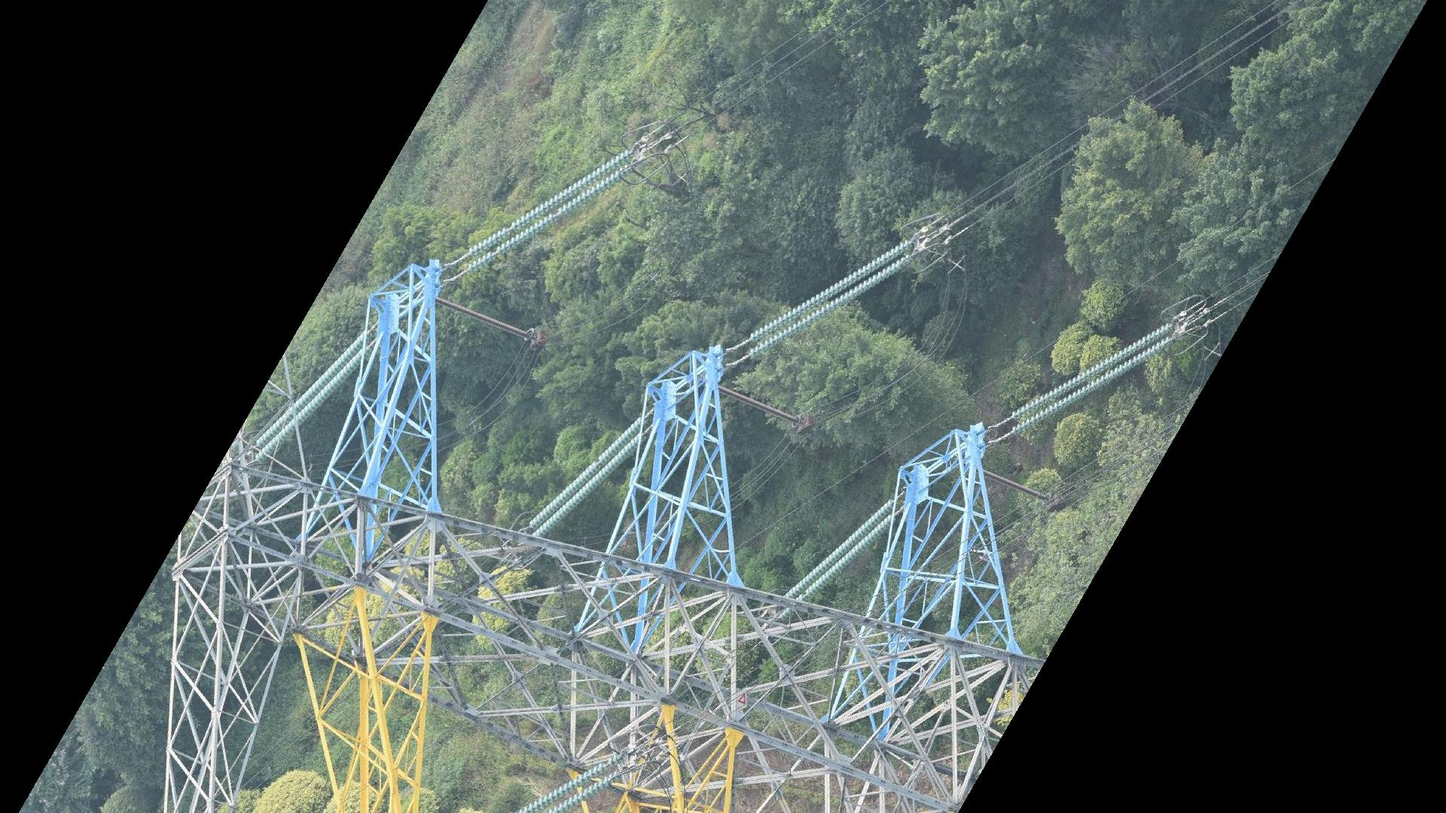insulator: (462, 146, 636, 276), (743, 236, 915, 361), (1007, 317, 1178, 437), (252, 326, 373, 465), (528, 413, 654, 540), (786, 498, 900, 603), (511, 753, 624, 813), (435, 295, 530, 340), (718, 382, 803, 426), (981, 467, 1046, 501)
insulator_stringdrop: (502, 220, 520, 240), (597, 755, 615, 775), (548, 206, 565, 224), (591, 454, 607, 473), (798, 586, 816, 601)
